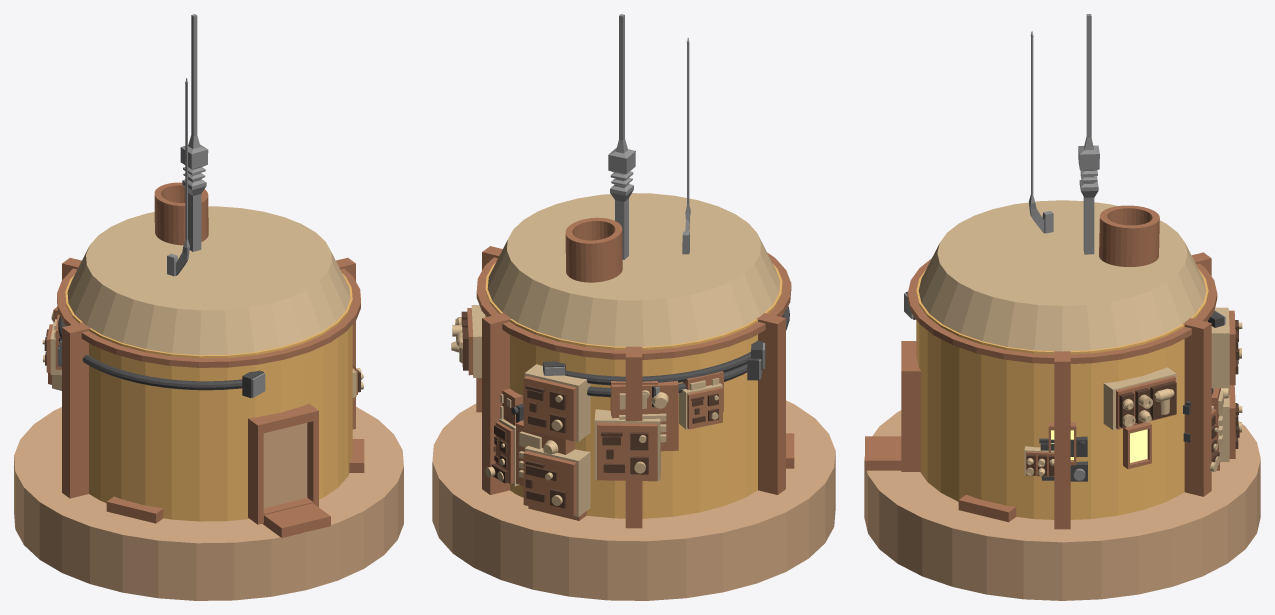
File: nomad_building_18.fbx
3 views of the same model, side by side, from view 1: azimuth 30°, elevation 25°; view 2: azimuth 150°, elevation 25°; view 3: azimuth 270°, elevation 25° (orthographic). The views are drawn at different scales.
Parts seen in each view (by area): view 1: B18_M_Foundation_foundation, B18_M_Drum0, B18_M_Crown_TowerBody_RoofCap, B18_M_Pilaster4_TowerTrim_Pilaster, B18_M_Ring00_TowerTrim_BandThin, B18_M_Door_Door_Frame, B18_M_Door_Door_Leaf, B18_M_Mast1_AntennaMast_Bulky, B18_M_Stack0_TowerBody_StackWide, B18_M_Pipe0, B18_M_Step_TowerTrim_DoorStep, B18_M_Mast0_AntennaMast_Offset (+2 smaller); view 2: B18_M_Foundation_foundation, B18_M_Crown_TowerBody_RoofCap, B18_M_Drum0, B18_M_Pilaster4_TowerTrim_Pilaster, B18_M_Ring00_TowerTrim_BandThin, B18_M_Pilaster2_TowerTrim_Pilaster, B18_M_Stack0_TowerBody_StackWide, B18_M_Mast1_AntennaMast_Bulky, B18_M_Gear0_MeterBox_Face, B18_M_Pilaster3_TowerTrim_Pilaster, B18_M_Panel5_MeterBox_Face005, B18_M_Panel5_MeterBox_Face (+11 smaller); view 3: B18_M_Foundation_foundation, B18_M_Drum0, B18_M_Crown_TowerBody_RoofCap, B18_M_Pilaster2_TowerTrim_Pilaster, B18_M_Ring00_TowerTrim_BandThin, B18_M_Stack0_TowerBody_StackWide, B18_M_Pilaster1_TowerTrim_Pilaster, B18_M_Door_Door_Frame, B18_M_Mast1_AntennaMast_Bulky, B18_M_Panel5_MeterBox_Backplate, B18_M_Step_TowerTrim_DoorStep, B18_M_Panel11_MeterBox_Backplate004 (+7 smaller).
Boxes of the visible parts, box(x1,y1,x2,y2) form: B18_M_Foundation_foundation: box(14, 406, 403, 600); B18_M_Drum0: box(65, 273, 352, 521); B18_M_Crown_TowerBody_RoofCap: box(67, 206, 350, 355); B18_M_Pilaster4_TowerTrim_Pilaster: box(62, 322, 90, 498); B18_M_Ring00_TowerTrim_BandThin: box(57, 268, 360, 367); B18_M_Door_Door_Frame: box(248, 403, 318, 524); B18_M_Door_Door_Leaf: box(263, 423, 307, 508); B18_M_Mast1_AntennaMast_Bulky: box(180, 14, 208, 251); B18_M_Stack0_TowerBody_StackWide: box(154, 182, 208, 245); B18_M_Pipe0: box(58, 316, 242, 390); B18_M_Step_TowerTrim_DoorStep: box(262, 503, 330, 537); B18_M_Mast0_AntennaMast_Offset: box(167, 78, 189, 276); B18_M_Foundation_foundation: box(432, 400, 835, 600); B18_M_Crown_TowerBody_RoofCap: box(487, 193, 780, 346); B18_M_Drum0: box(485, 262, 782, 518); B18_M_Pilaster4_TowerTrim_Pilaster: box(756, 313, 785, 494); B18_M_Ring00_TowerTrim_BandThin: box(476, 252, 791, 359); B18_M_Pilaster2_TowerTrim_Pilaster: box(482, 313, 511, 494); B18_M_Stack0_TowerBody_StackWide: box(565, 217, 622, 282); B18_M_Mast1_AntennaMast_Bulky: box(608, 14, 635, 259); B18_M_Gear0_MeterBox_Face: box(597, 422, 657, 481); B18_M_Pilaster3_TowerTrim_Pilaster: box(625, 346, 642, 528); B18_M_Panel5_MeterBox_Face005: box(523, 451, 576, 516); B18_M_Panel5_MeterBox_Face: box(523, 376, 576, 441); B18_M_Foundation_foundation: box(864, 410, 1260, 600); B18_M_Drum0: box(916, 268, 1208, 519); B18_M_Crown_TowerBody_RoofCap: box(918, 200, 1206, 351); B18_M_Pilaster2_TowerTrim_Pilaster: box(1183, 318, 1211, 496); B18_M_Ring00_TowerTrim_BandThin: box(907, 258, 1217, 363); B18_M_Stack0_TowerBody_StackWide: box(1099, 205, 1159, 266); B18_M_Pilaster1_TowerTrim_Pilaster: box(1054, 351, 1070, 529); B18_M_Door_Door_Frame: box(901, 341, 921, 471); B18_M_Mast1_AntennaMast_Bulky: box(1078, 14, 1099, 254); B18_M_Panel5_MeterBox_Backplate: box(1211, 307, 1229, 388); B18_M_Step_TowerTrim_DoorStep: box(865, 436, 901, 470); B18_M_Panel11_MeterBox_Backplate004: box(1103, 367, 1176, 430).
Bounding box in the file's own units: 319 × 445 × 319.
